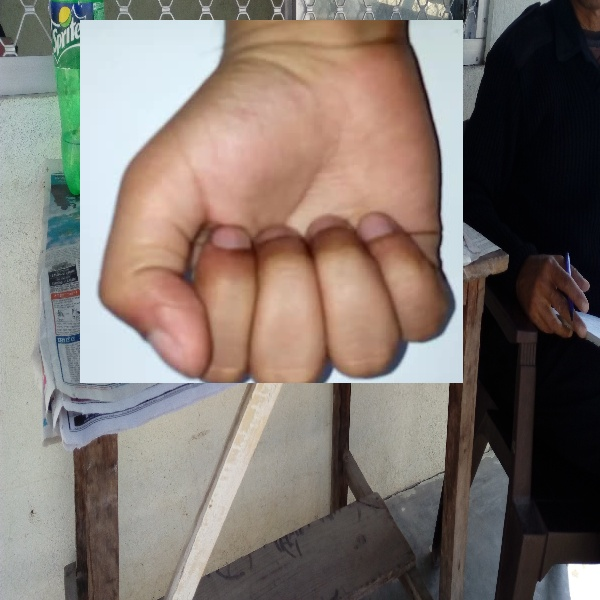F: (80, 20, 463, 383)
